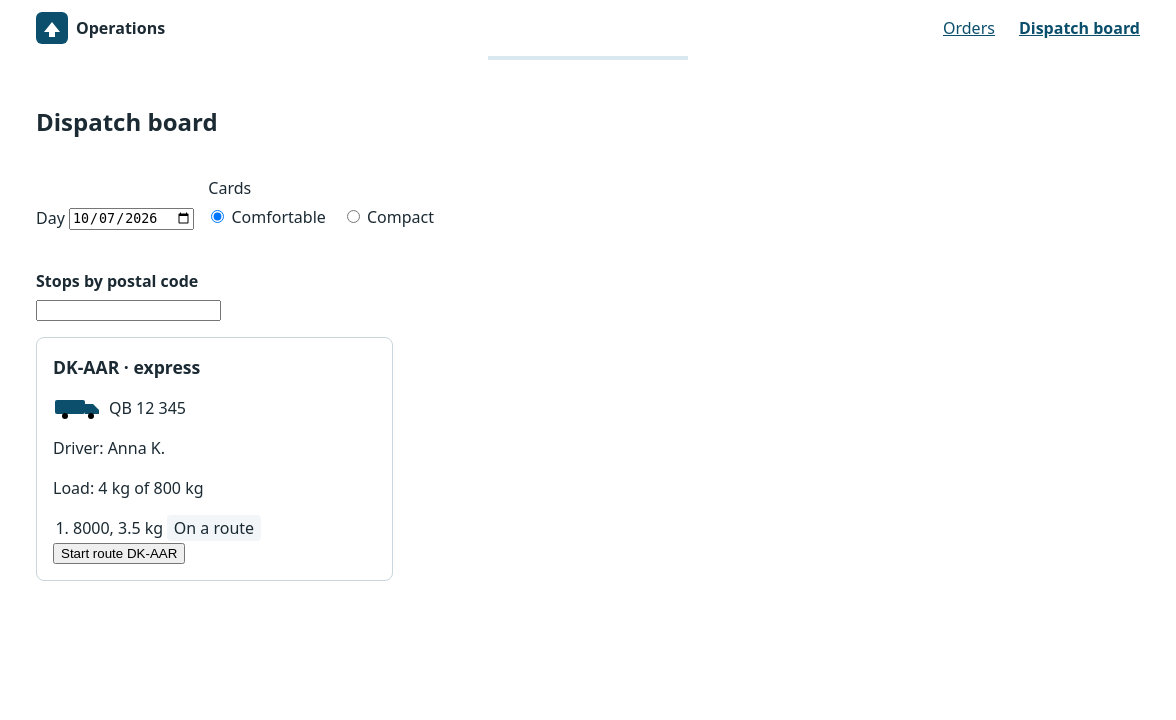
dispatch board › shows the routes of the chosen day and starts one
The width and height of the screenshot is (1176, 720).
expect the heading "DK-AAR · express" is shown: met, box [53,355,200,379]
expect the text "Driver: Anna K." is shown: met, box [53,437,165,459]
Click the button "Start route DK-AAR" at [119, 554], box [53,543,185,564]
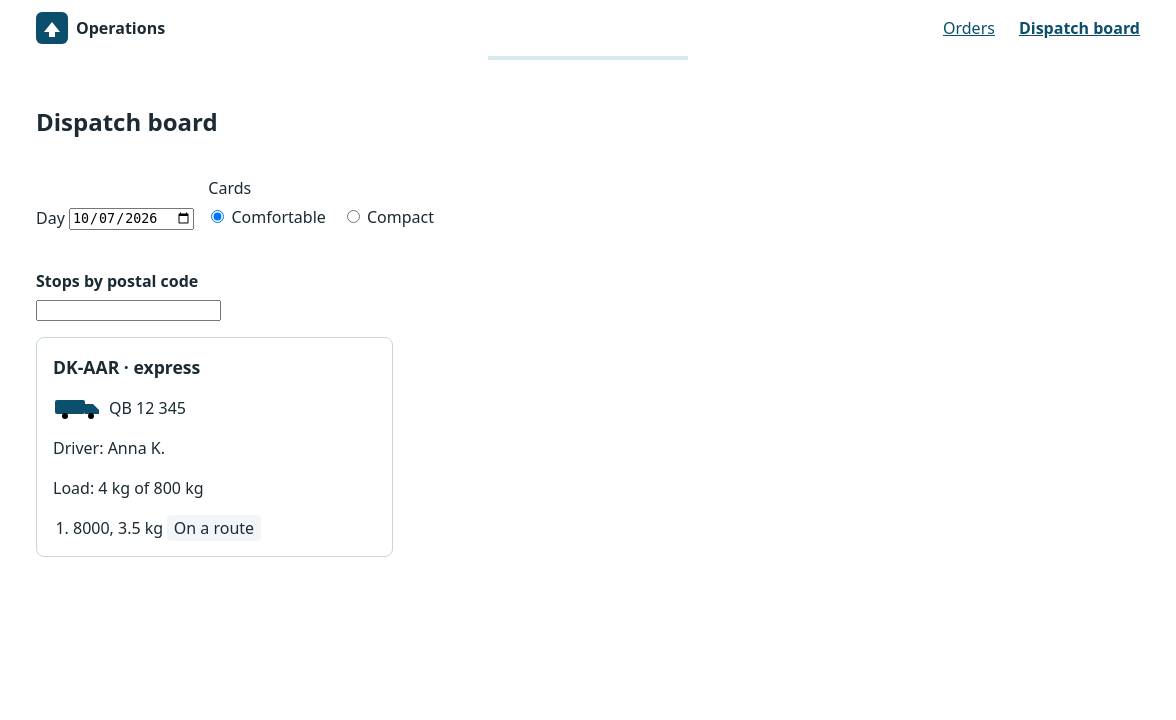
expect the button "Start route DK-AAR" is gone: met
